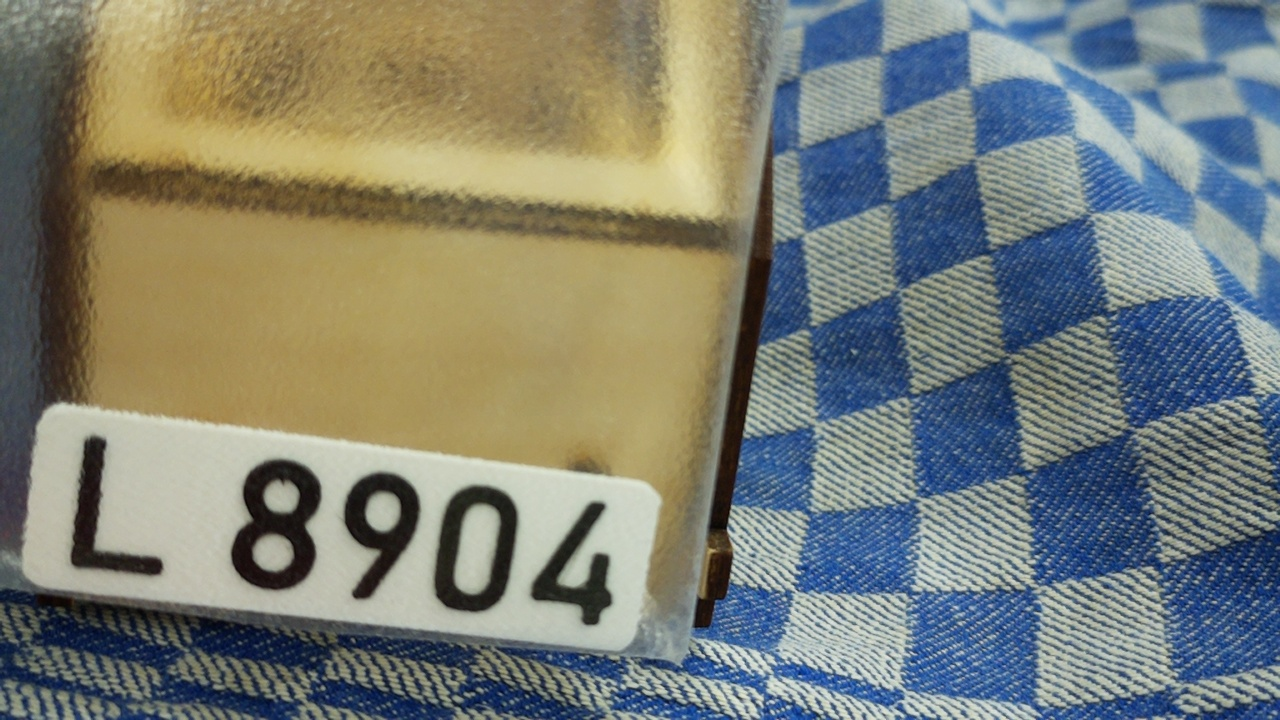license_plate: (18, 399, 667, 659)
